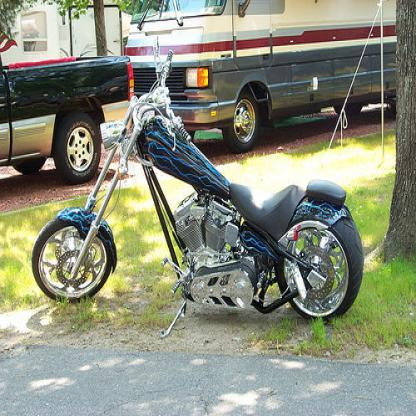bus: (124, 0, 398, 152)
car: (0, 32, 134, 186)
motorbike: (31, 38, 365, 338)
